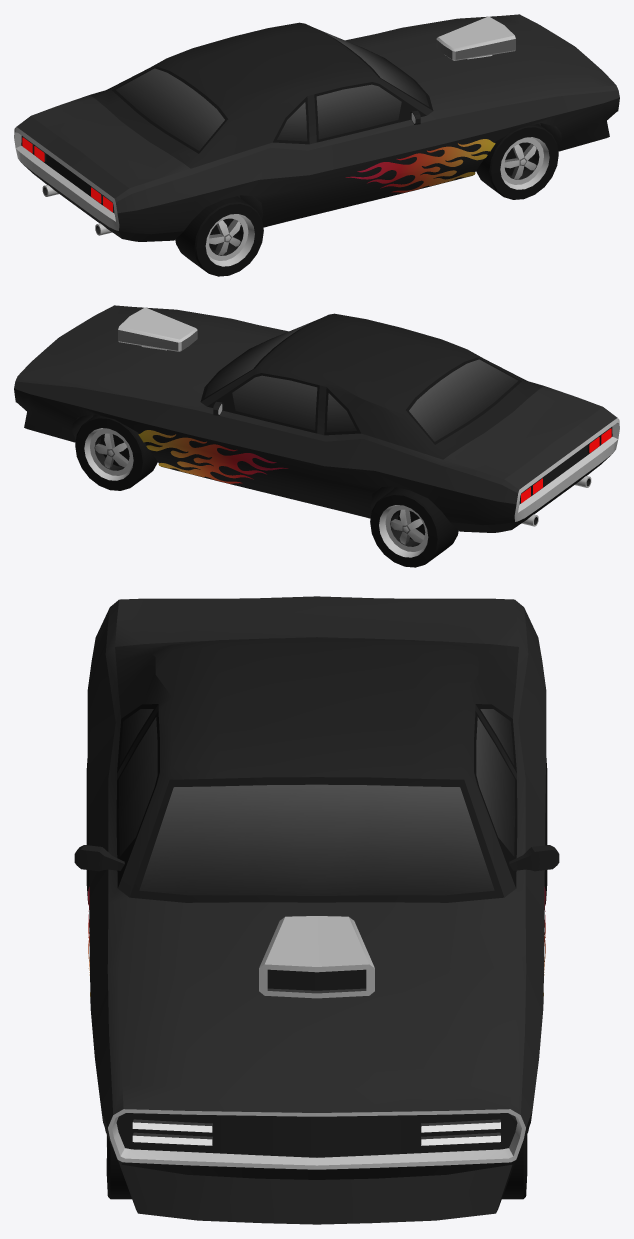
File: Car_114.glb
3 views of the same model, one above another, from view 1: azimuth 30°, elevation 25°; view 2: azimuth 150°, elevation 25°; view 3: azimuth 270°, elevation 25° (orthographic). The views are drawn at different scales.
Parts seen in each view (by area): view 1: Car_114, wheel_3_Car_114_Wheel_2R, wheel_1_Car_114_Wheel_1R; view 2: Car_114, wheel_2_Car_114_Wheel_2L, wheel_0_Car_114_Wheel_1L; view 3: Car_114, wheel_0_Car_114_Wheel_1L, wheel_1_Car_114_Wheel_1R.
Part boxes in pixels (x1,y1,x2,y2): Car_114: (14, 14, 619, 241); wheel_3_Car_114_Wheel_2R: (175, 196, 263, 276); wheel_1_Car_114_Wheel_1R: (476, 124, 558, 199); Car_114: (14, 305, 619, 532); wheel_2_Car_114_Wheel_2L: (370, 487, 458, 567); wheel_0_Car_114_Wheel_1L: (75, 415, 157, 490); Car_114: (74, 596, 559, 1224); wheel_0_Car_114_Wheel_1L: (502, 1135, 527, 1199); wheel_1_Car_114_Wheel_1R: (106, 1135, 131, 1199).
Size of the model in its own units: 5.02 by 1.41 by 2.05.
3 materials, 3 textured.
